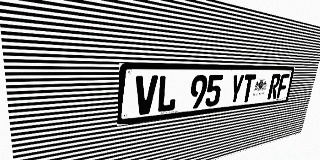5: (205, 75, 223, 107)
9: (188, 75, 208, 109)
F: (276, 74, 290, 98)
L: (156, 75, 178, 113)
R: (267, 74, 281, 99)
T: (240, 74, 256, 103)
V: (134, 75, 158, 116)
Y: (228, 74, 245, 104)
